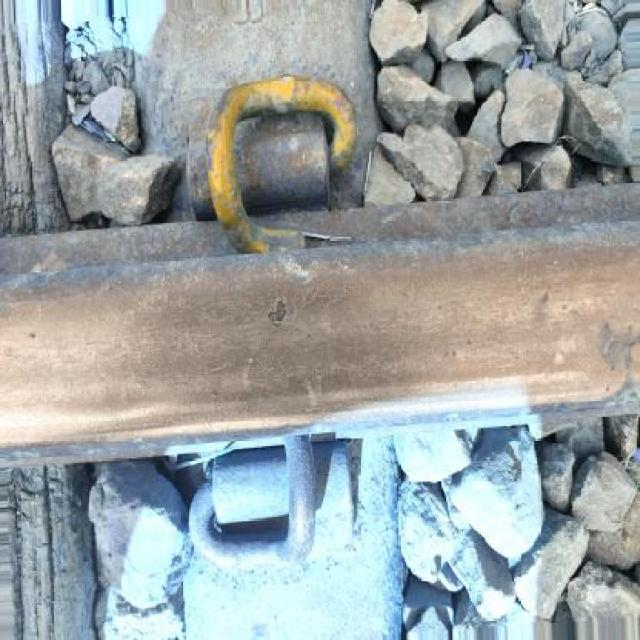non-defective: (0, 175, 638, 475)
